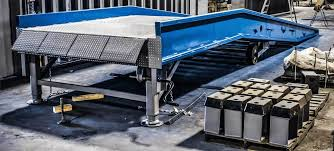Yard Ramp: (12, 4, 322, 63)
